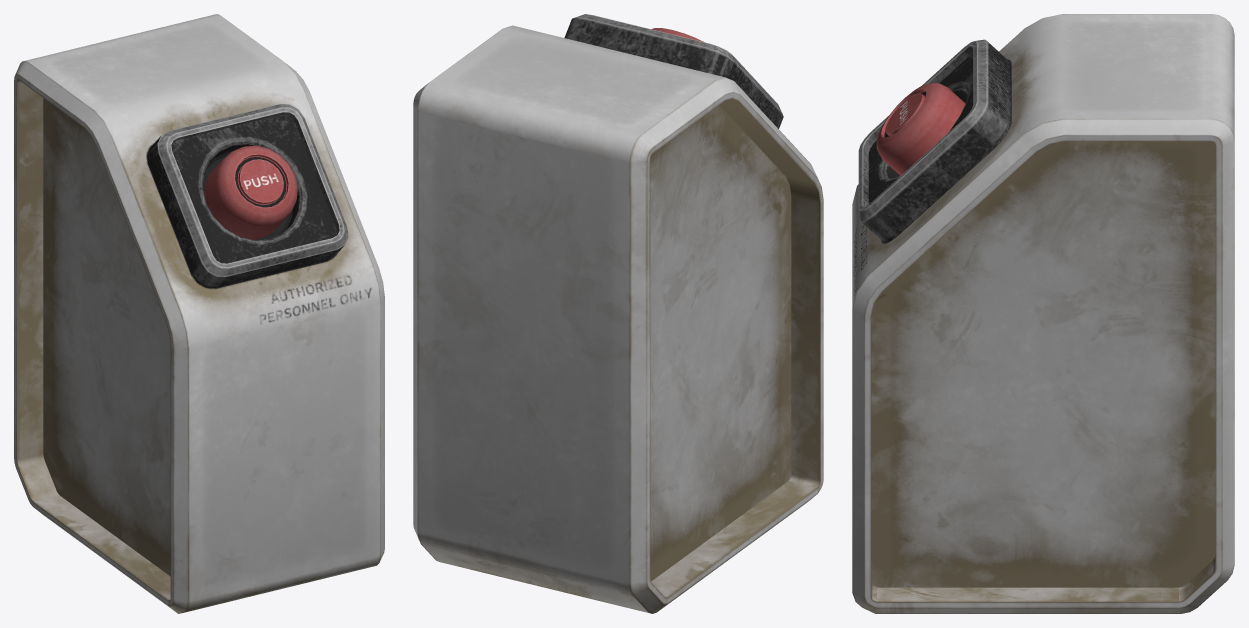
File: exhibit buttonV2.fbx
3 renders of one model, left to right at view 1: azimuth 30°, elevation 25°; view 2: azimuth 150°, elevation 25°; view 3: azimuth 270°, elevation 25°, orthographic. The views are drawn at different scales.
Visible parts, largest first — view 1: switch; view 2: switch; view 3: switch.
Boxes of the visible parts, x1,y1,x2,y2 form: switch: (14,14,384,613); switch: (413,14,823,613); switch: (852,14,1234,613).
Bounding box in the file's own units: 100 × 200 × 140.
Materials: 1 (1 with a texture image).
